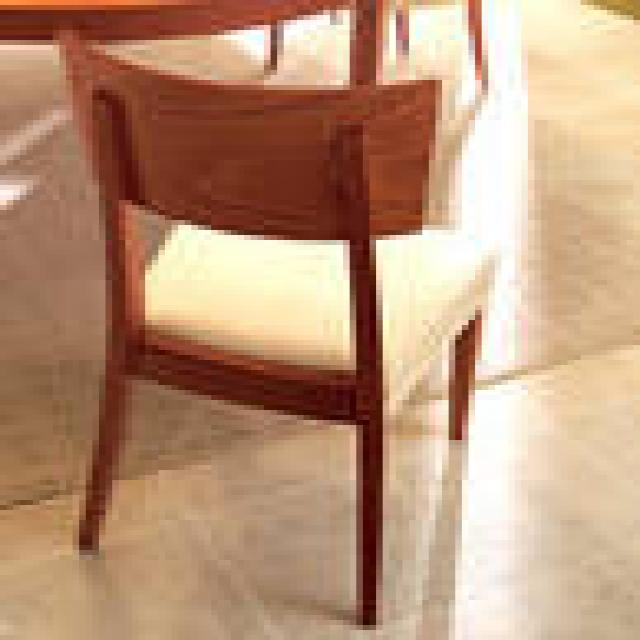chair: (58, 31, 498, 630)
